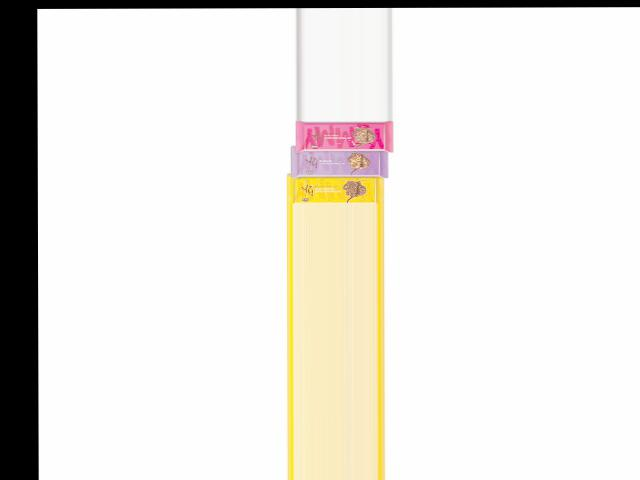chocolate: (291, 119, 399, 152)
